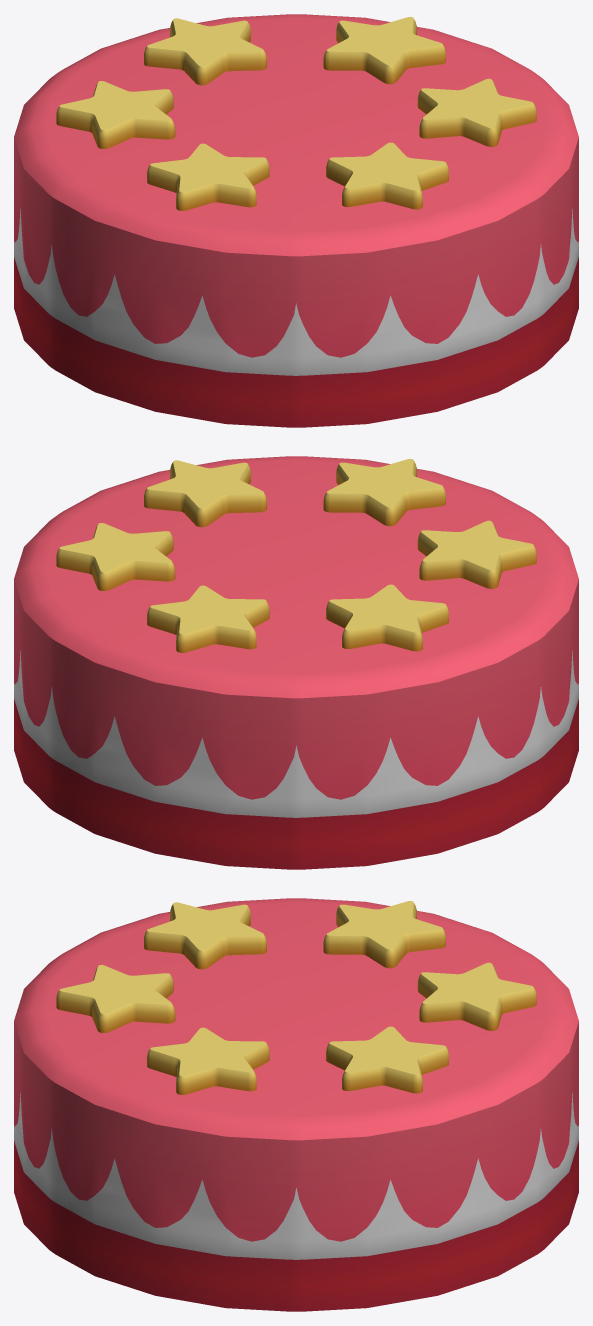
Rendered from cake12.FBX.
3 views of the same model, one above another, from view 1: azimuth 30°, elevation 25°; view 2: azimuth 150°, elevation 25°; view 3: azimuth 270°, elevation 25° (orthographic).
Visible parts, largest first — view 1: cake12; view 2: cake12; view 3: cake12.
Boxes of the visible parts, x1=… form: cake12: x1=14, y1=14, x2=578, y2=427; cake12: x1=14, y1=456, x2=578, y2=869; cake12: x1=14, y1=898, x2=578, y2=1311.
Bounding box in the file's own units: 0.0191 × 0.00761 × 0.0191.
